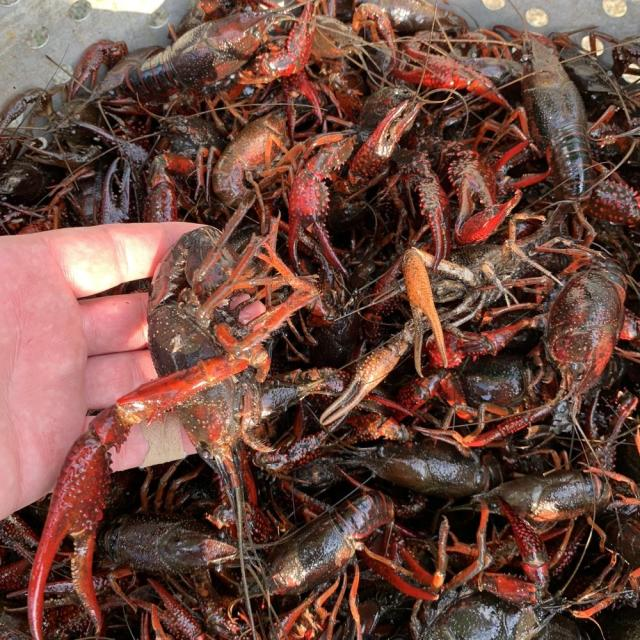Crawfish: (0, 0, 640, 640), (28, 226, 319, 640)
